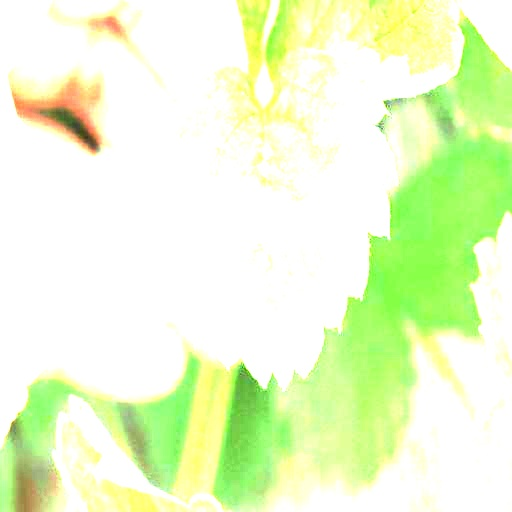Powdery Mildew Leaf: (147, 45, 398, 392), (261, 0, 468, 103), (51, 394, 226, 511)
